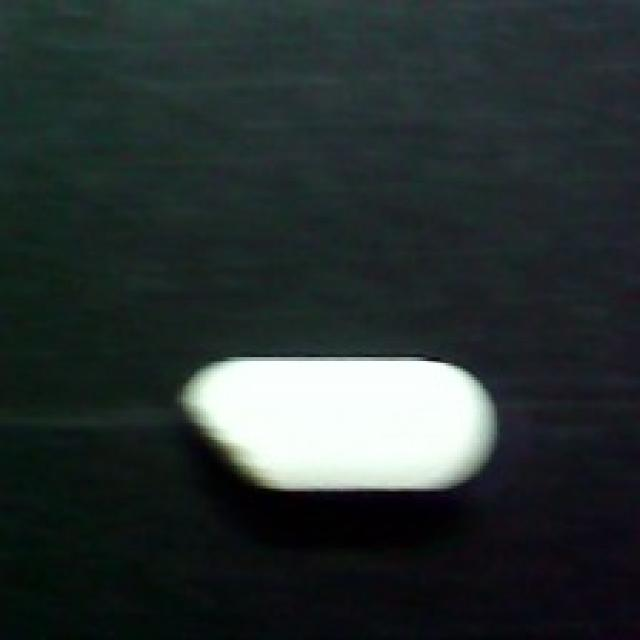defected: (174, 343, 511, 500)
